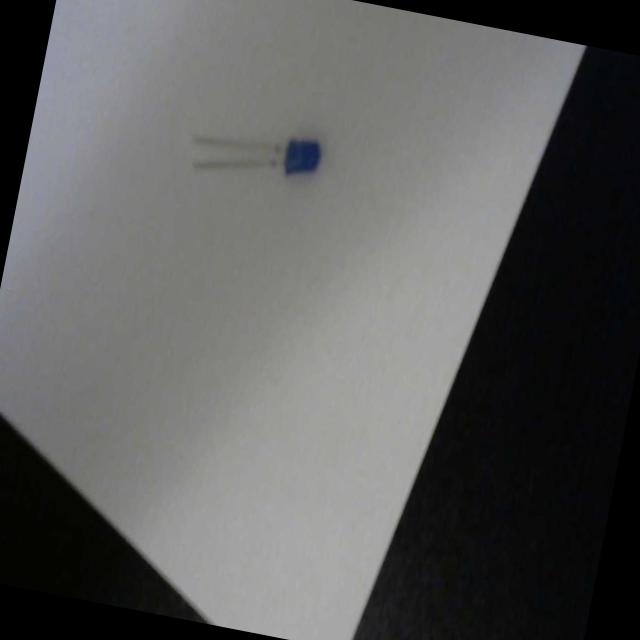blue_led: (180, 108, 332, 196)
